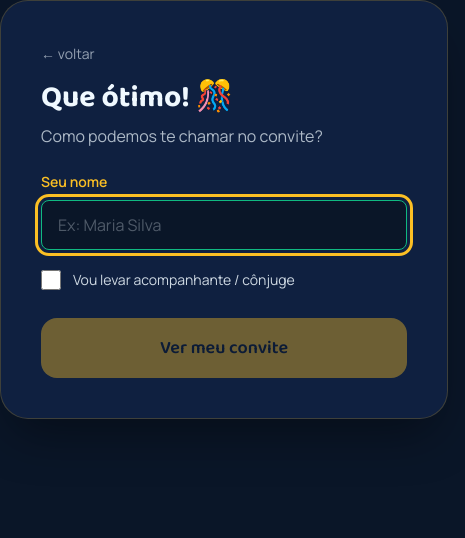
RSVPForm › exibe campo de acompanhante ao marcar o checkbox
Click the checkbox at (51, 280), box [41,270,61,290]
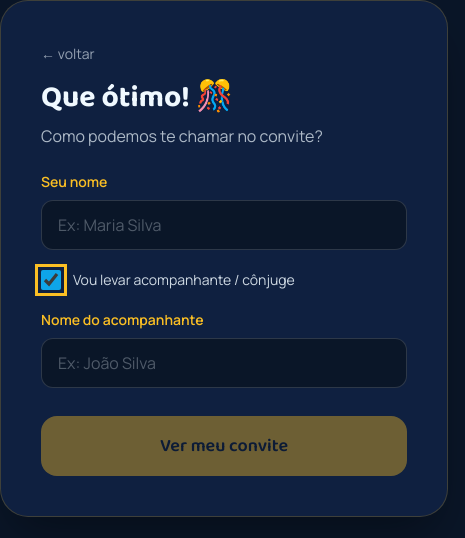
Expected: the field with placeholder "Ex: João Silva" is shown, [41,338,407,388]
